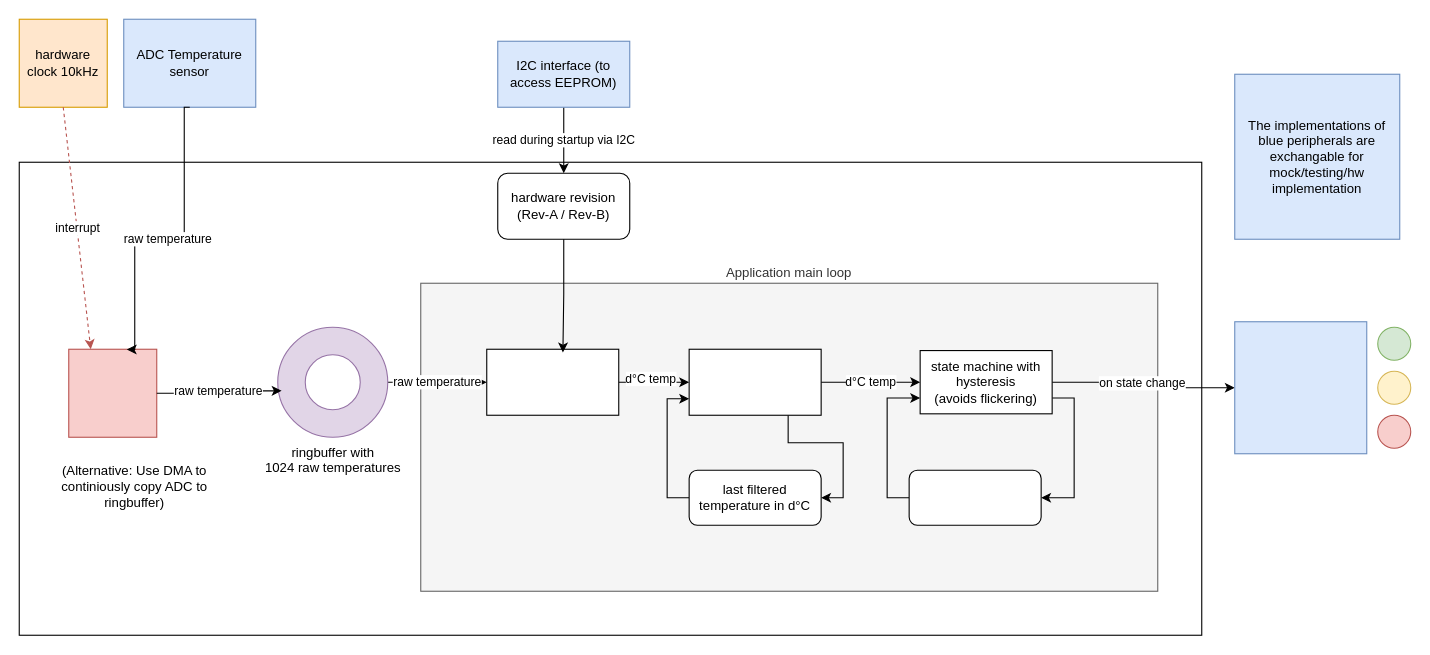
The diagram is 1430 pixels wide and 655 high, and some of its shapes have lost their labels. Here are the shapes that lost their labels. From the top down, the centre of each, then its label:
At [112,392]: "adc isr: reads and stores raw value to ringbuffer".
At [552,381]: "convert temperature to d°C (fixed precision instead of float)".
At [754,381]: "IIR filter temperature (lowpass filter outlayers)".
At [1300,387]: "GPIO LEDs".
At [974,497]: "previous state ( Critical low, normal, warning, critical high)".
